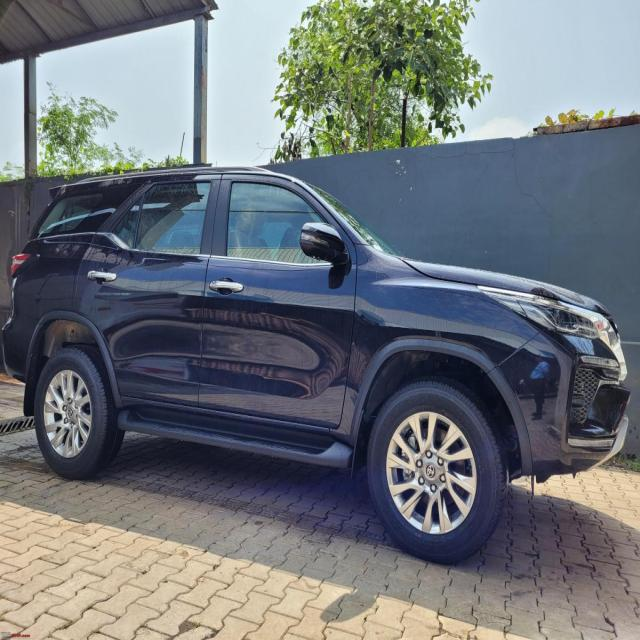light_vehicle: (0, 164, 635, 566)
